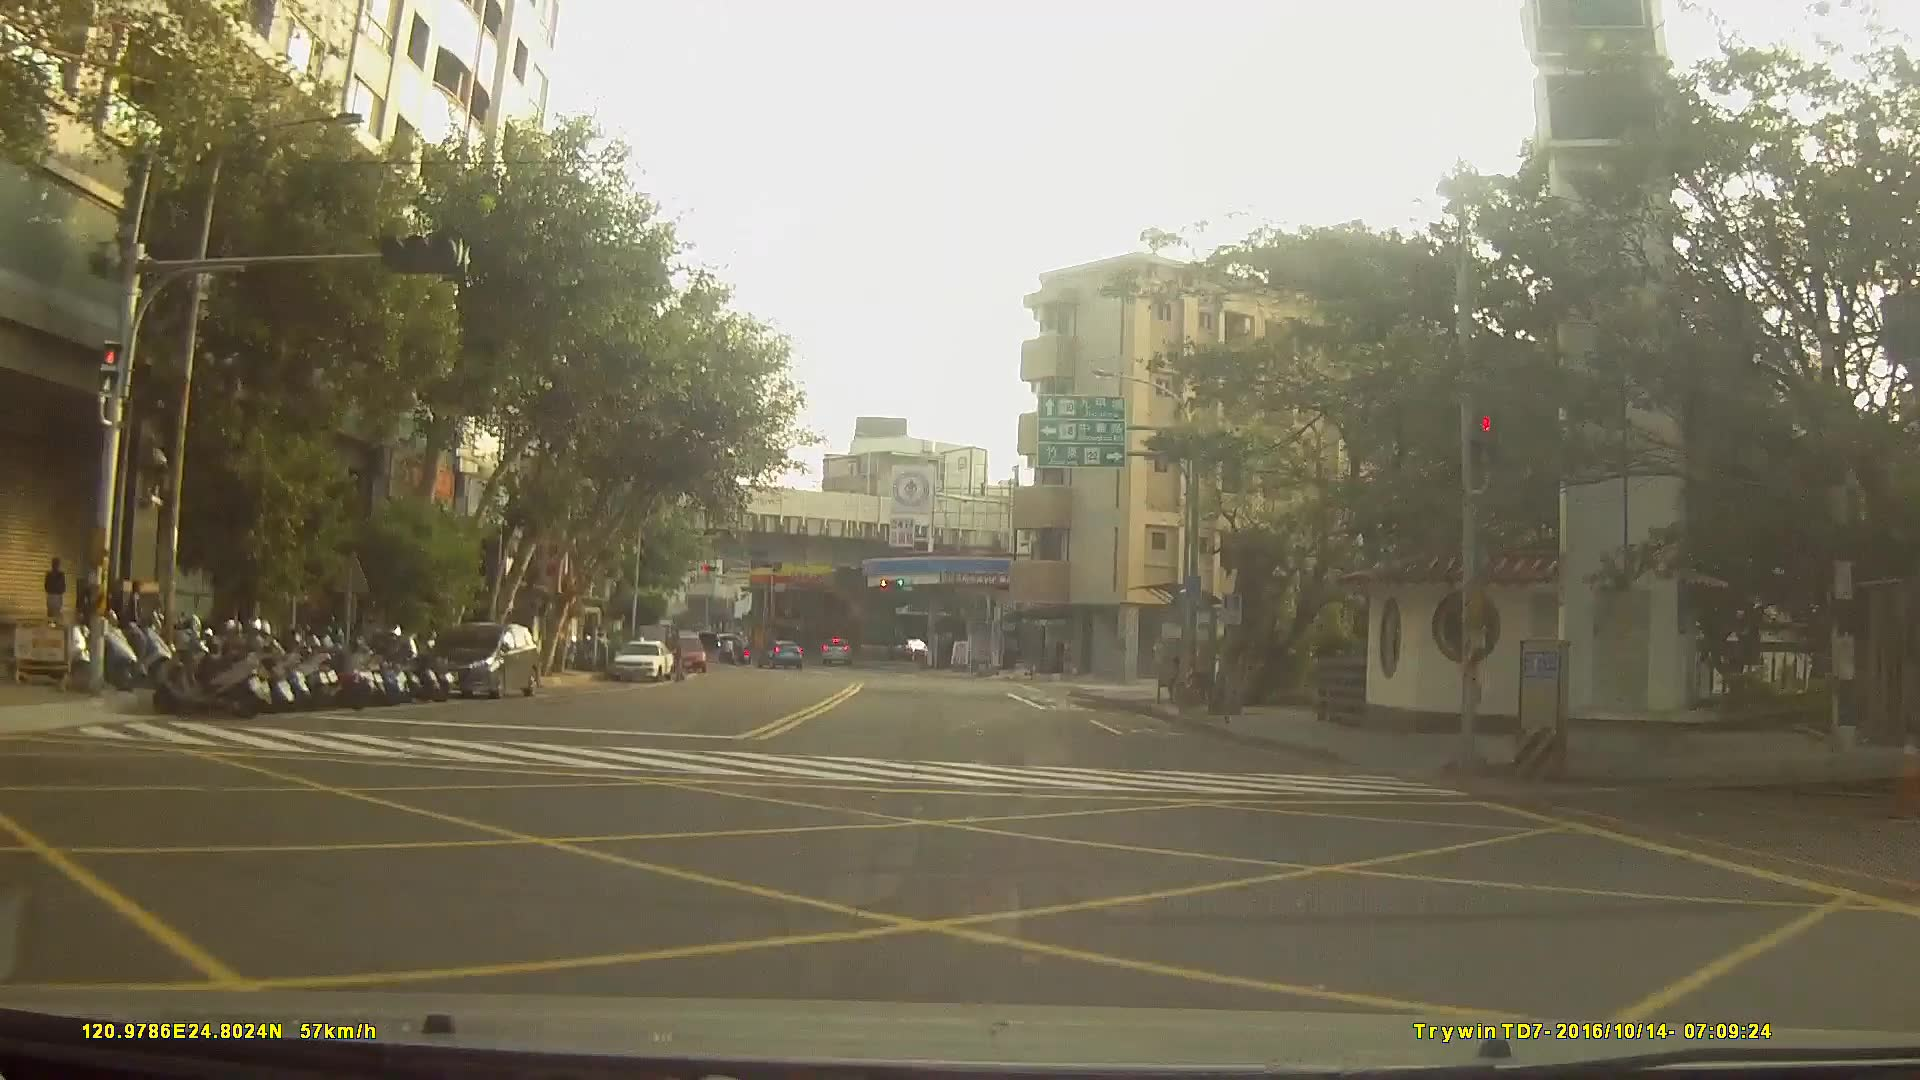pedestrian: (47, 554, 71, 634)
vehicle: (415, 621, 539, 701), (609, 639, 673, 683), (662, 634, 705, 673), (755, 636, 802, 668), (818, 638, 851, 666)
